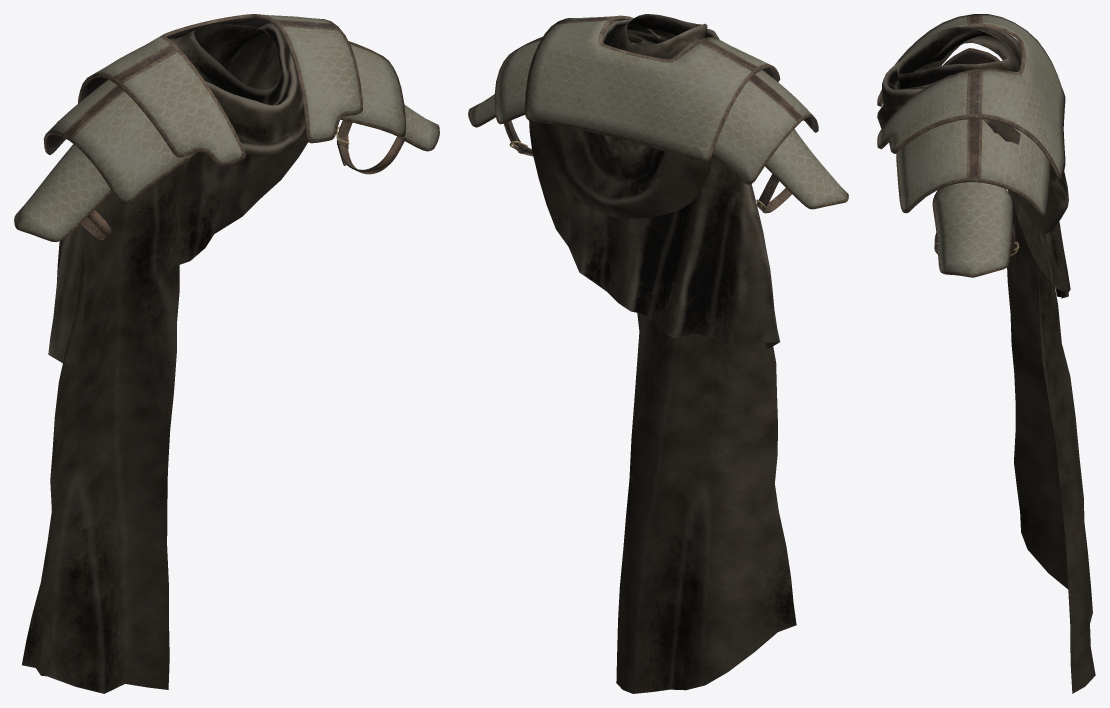
File: dunland_wulf_pauldron_cape_short_a.fbx
3 views of the same model, side by side, from view 1: azimuth 30°, elevation 25°; view 2: azimuth 150°, elevation 25°; view 3: azimuth 270°, elevation 25° (orthographic). The views are drawn at different scales.
Visible parts, largest first — view 1: dunland_wulf_pauldron_cape_short_a.cloth, dunland_wulf_pauldron_cape_short_a.pauldron; view 2: dunland_wulf_pauldron_cape_short_a.cloth, dunland_wulf_pauldron_cape_short_a.pauldron; view 3: dunland_wulf_pauldron_cape_short_a.cloth, dunland_wulf_pauldron_cape_short_a.pauldron.
Part boxes in pixels (left/top/right/bottom): dunland_wulf_pauldron_cape_short_a.cloth: left=22, top=23, right=308, bottom=693; dunland_wulf_pauldron_cape_short_a.pauldron: left=14, top=14, right=439, bottom=241; dunland_wulf_pauldron_cape_short_a.cloth: left=529, top=14, right=796, bottom=693; dunland_wulf_pauldron_cape_short_a.pauldron: left=468, top=15, right=848, bottom=213; dunland_wulf_pauldron_cape_short_a.cloth: left=877, top=27, right=1095, bottom=693; dunland_wulf_pauldron_cape_short_a.pauldron: left=877, top=14, right=1065, bottom=277.
Size of the model in its own units: 0.8712 by 0.4155 by 1.37.
2 materials, 2 textured.
